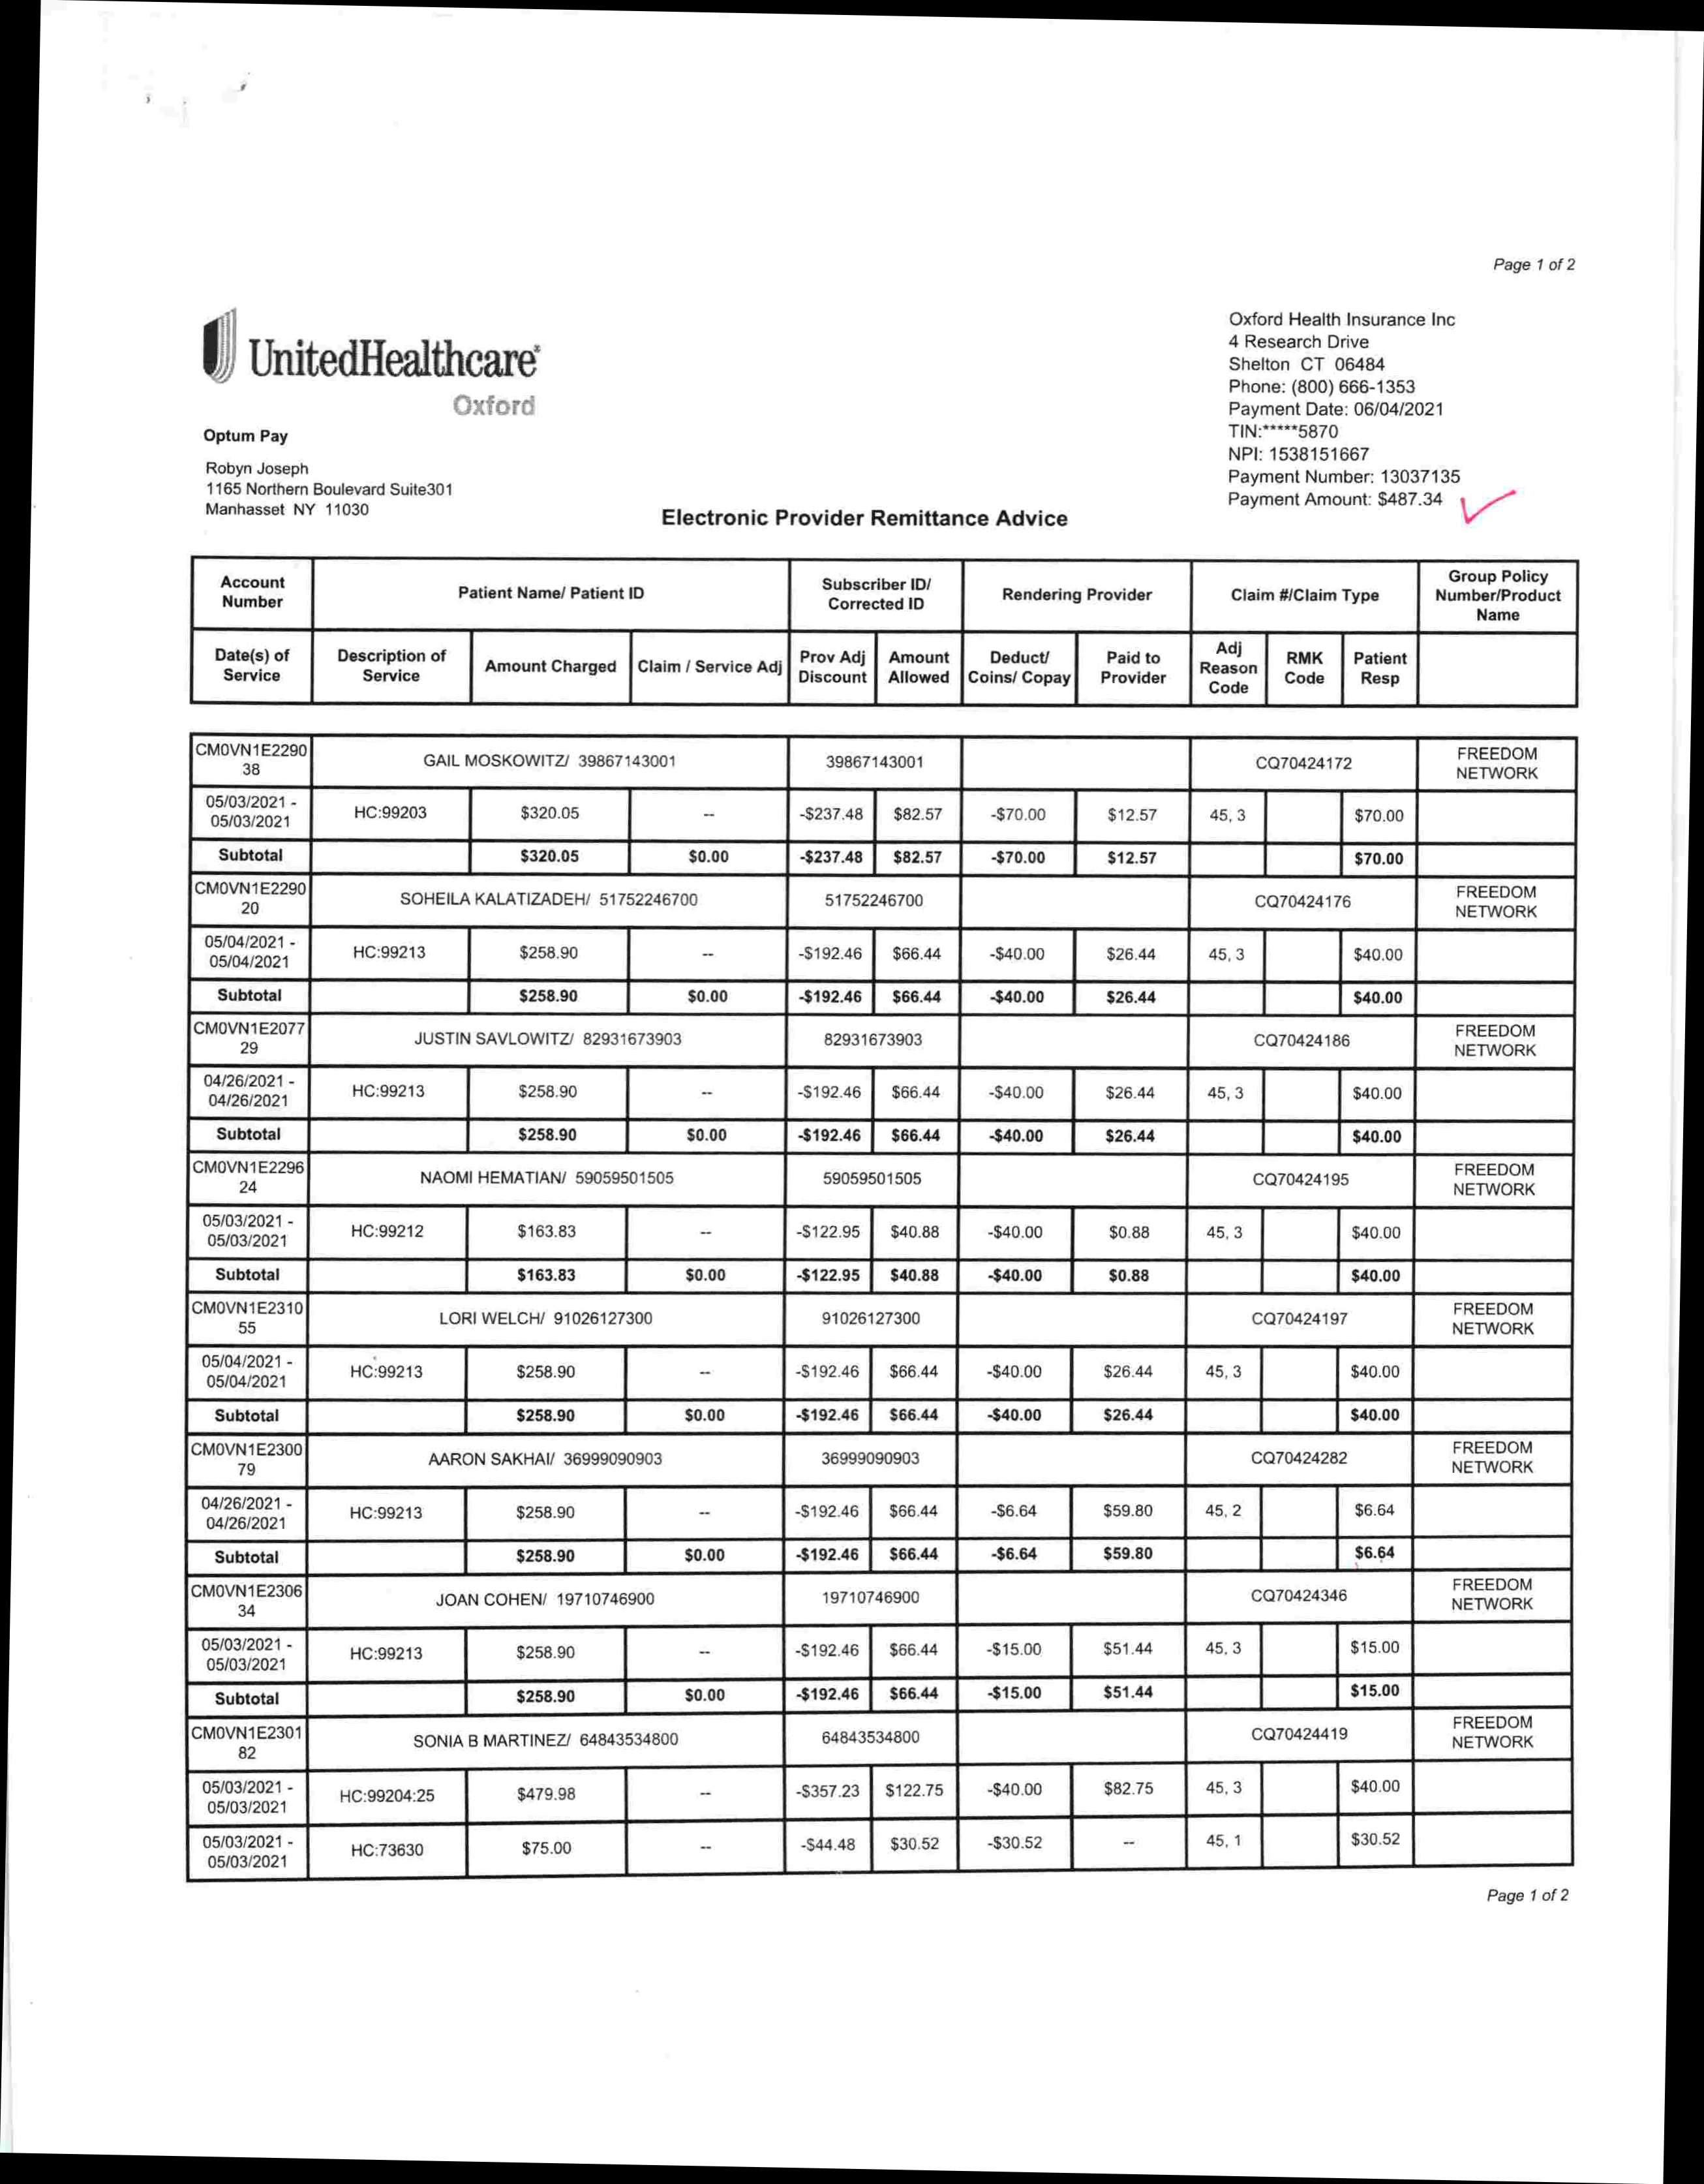data: (1215, 298, 1477, 516)
table: (168, 539, 1585, 1874)
